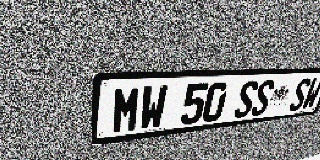0: (201, 82, 229, 123)
5: (180, 83, 209, 125)
M: (111, 86, 142, 134)
S: (232, 80, 259, 119), (249, 80, 276, 116), (287, 78, 312, 112)
W: (138, 85, 168, 131), (300, 77, 320, 110)
